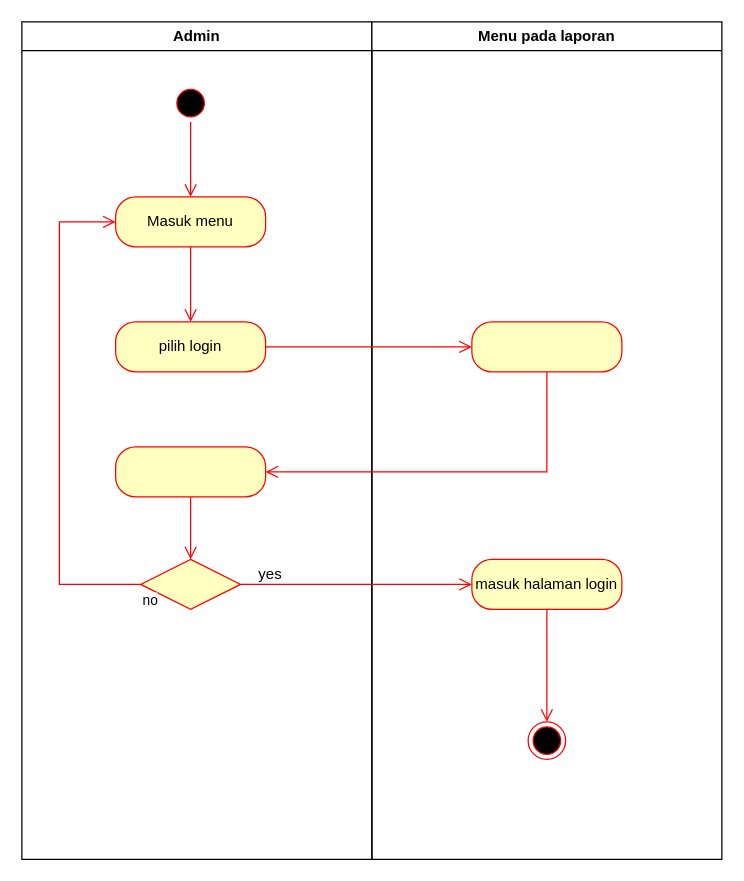
Some shapes in this 744 by 881 pixel diagram are drawn without their labels. Each missing label, with the centre of its shape:
"menampilkan form login" belongs at [546,346].
"mengisi form login" belongs at [190,471].
